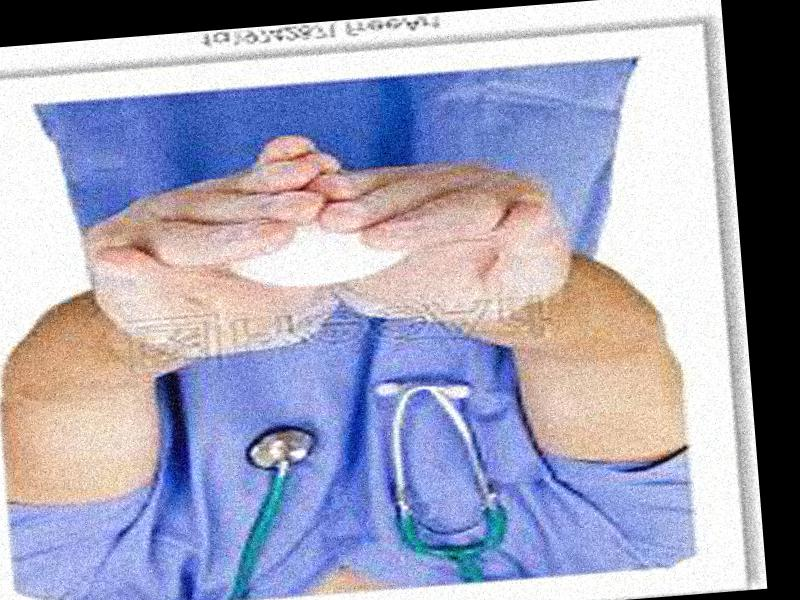Eggs: (232, 210, 411, 292)
